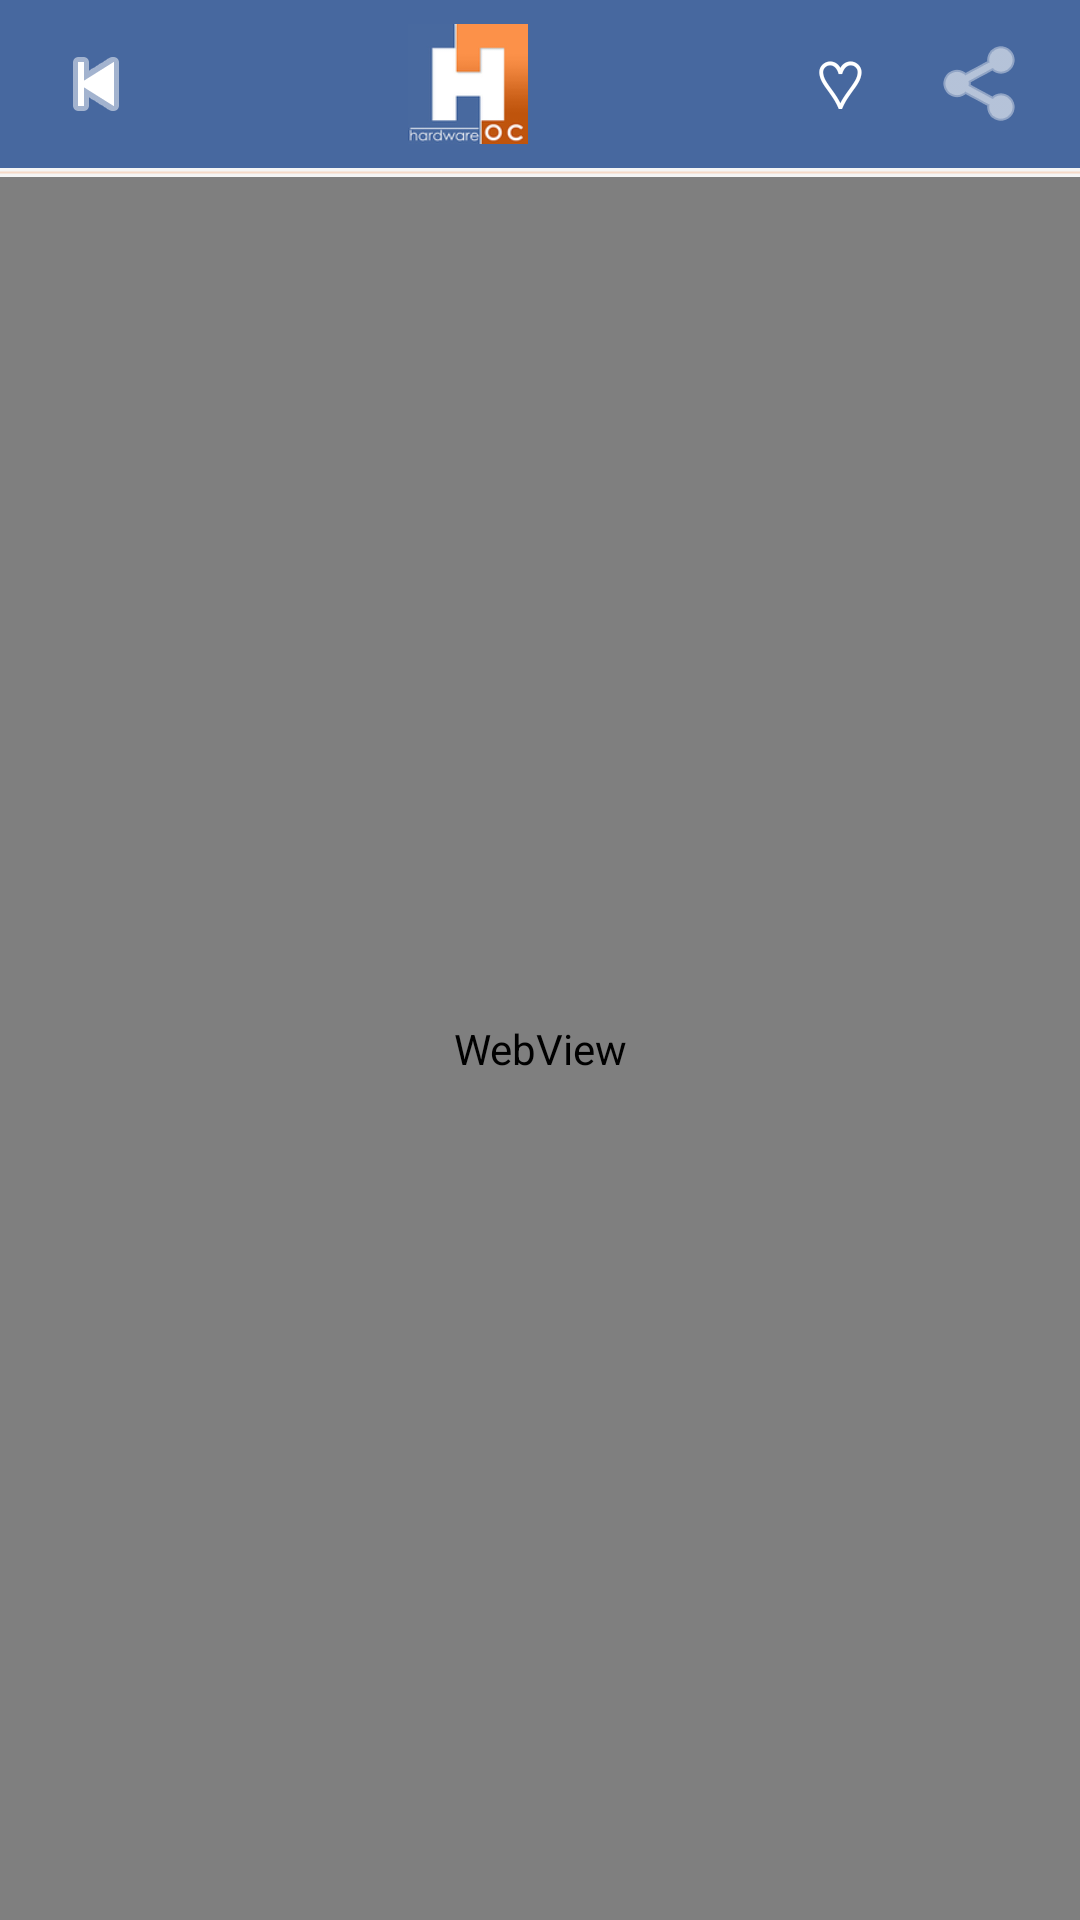

Icons on this 1080px x 1920px Android screen, each with its box as region(x1, y1, x2, y2):
Cikk megosztása: region(943, 46, 1015, 121)
Vissza: region(73, 57, 119, 111)
